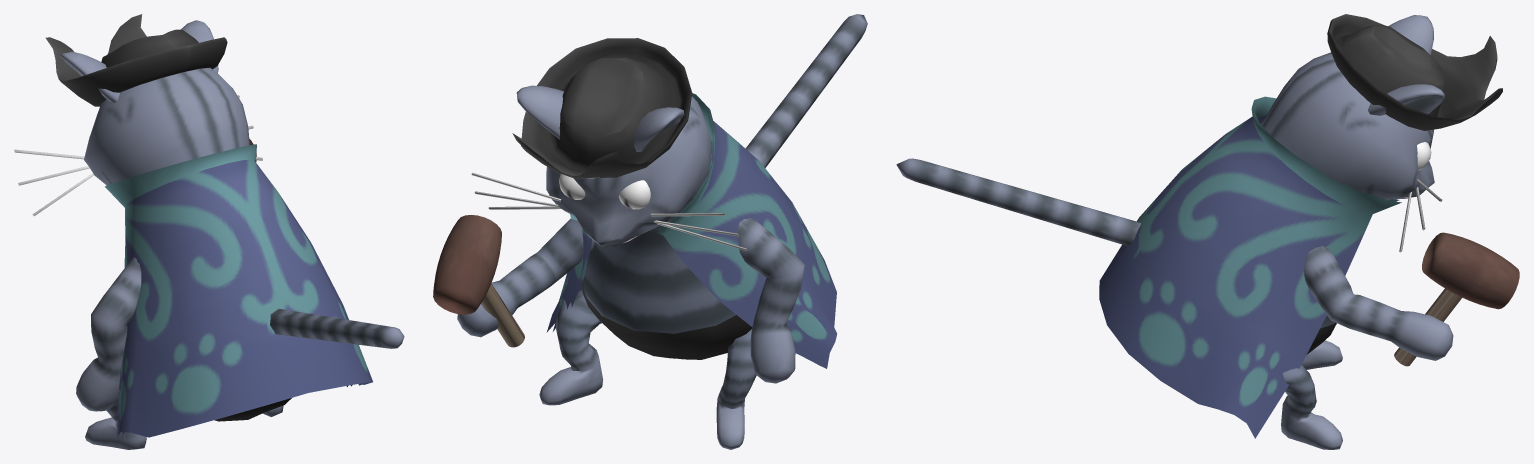
File: neko_fix_05.fbx
The picture shows the model from 3 angles, left to right: view 1: azimuth 30°, elevation 25°; view 2: azimuth 150°, elevation 25°; view 3: azimuth 270°, elevation 25°; orthographic projection. The views are drawn at different scales.
Parts seen in each view (by area): view 1: F_05; view 2: F_05; view 3: F_05.
Boxes of the visible parts, x1,y1,x2,y2 form: F_05: [14, 14, 404, 449]; F_05: [433, 14, 867, 449]; F_05: [896, 14, 1519, 449].
Size of the model in its own units: 1.08 by 1.49 by 2.24.
1 material, 1 textured.
